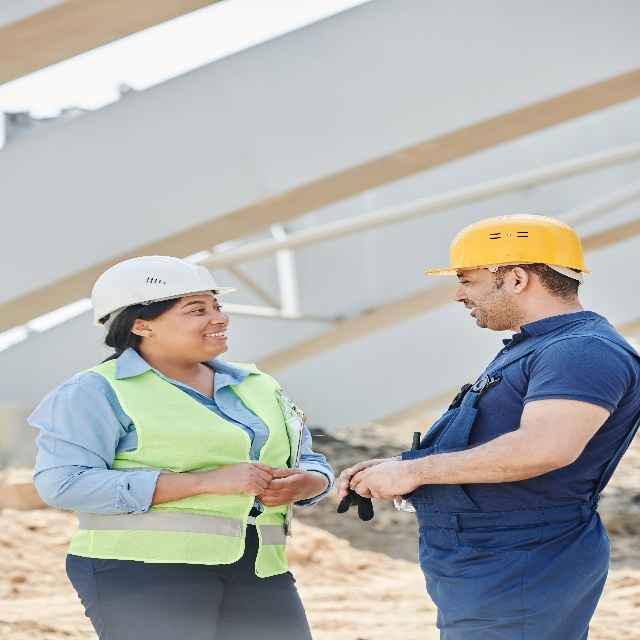Gafas: (394, 498, 416, 513)
Guantes: (336, 486, 374, 521)
Sin_guantes: (350, 460, 415, 501), (204, 461, 274, 497), (336, 457, 388, 499), (257, 468, 309, 507)
